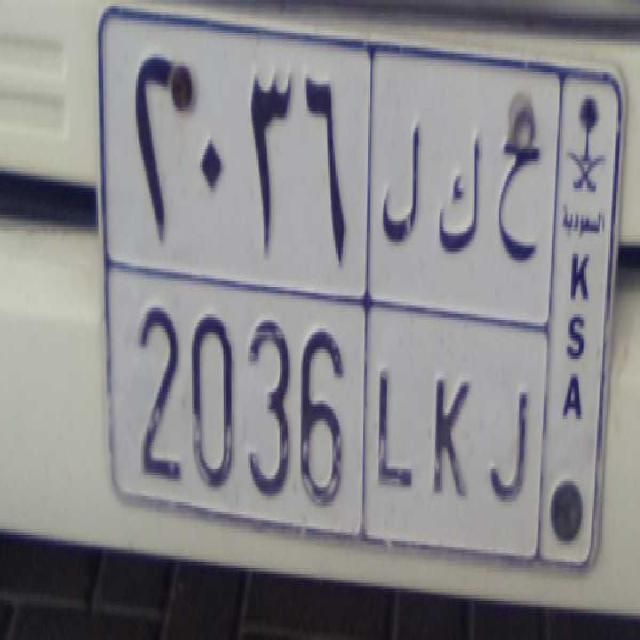license_plate: (118, 281, 543, 564)
